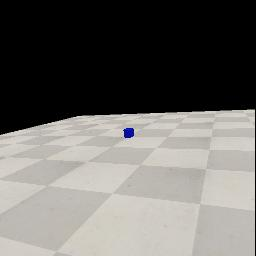box: (123, 128, 134, 138)
